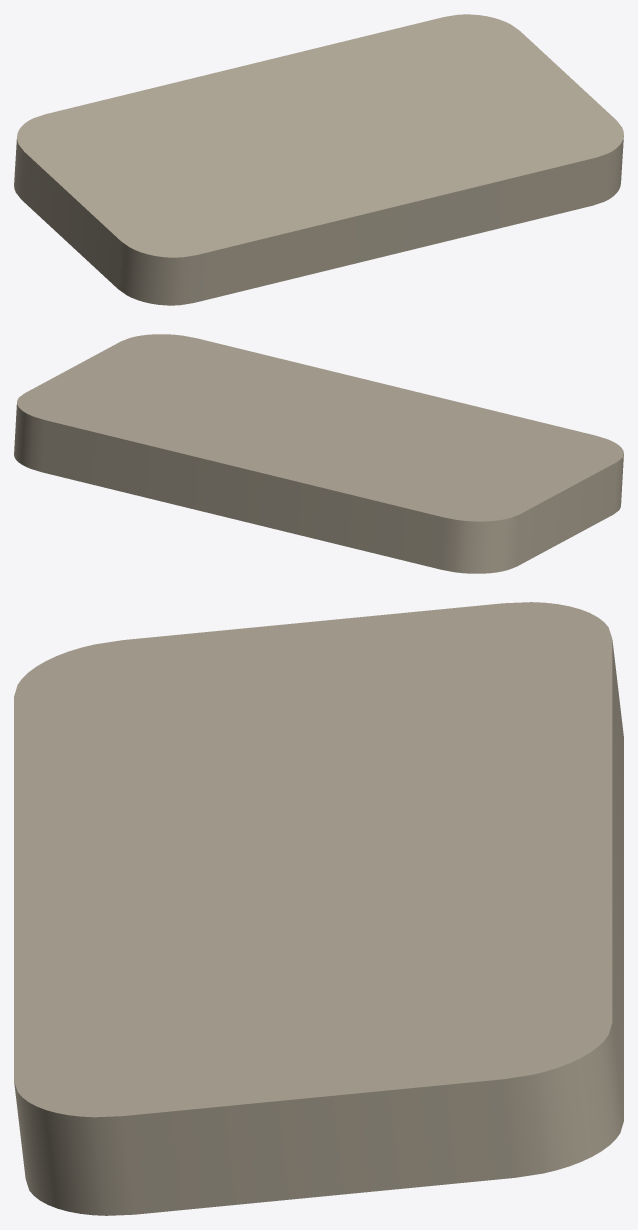
File: original-33.obj
3 views of the same model, one above another, from view 1: azimuth 30°, elevation 25°; view 2: azimuth 150°, elevation 25°; view 3: azimuth 270°, elevation 25° (orthographic). The views are drawn at different scales.
Parts seen in each view (by area): view 1: Function_Keys_1_2/Function_Keys_1/mesh36/mesh36-geometry#mesh36-; view 2: Function_Keys_1_2/Function_Keys_1/mesh36/mesh36-geometry#mesh36-; view 3: Function_Keys_1_2/Function_Keys_1/mesh36/mesh36-geometry#mesh36-.
Boxes of the visible parts, box(x1,y1,x2,y2) form: Function_Keys_1_2/Function_Keys_1/mesh36/mesh36-geometry#mesh36-: box(14, 14, 623, 305); Function_Keys_1_2/Function_Keys_1/mesh36/mesh36-geometry#mesh36-: box(14, 334, 623, 573); Function_Keys_1_2/Function_Keys_1/mesh36/mesh36-geometry#mesh36-: box(14, 602, 623, 1215).
Size of the model in its own units: 0.1069 by 0.0164 by 0.0579.
